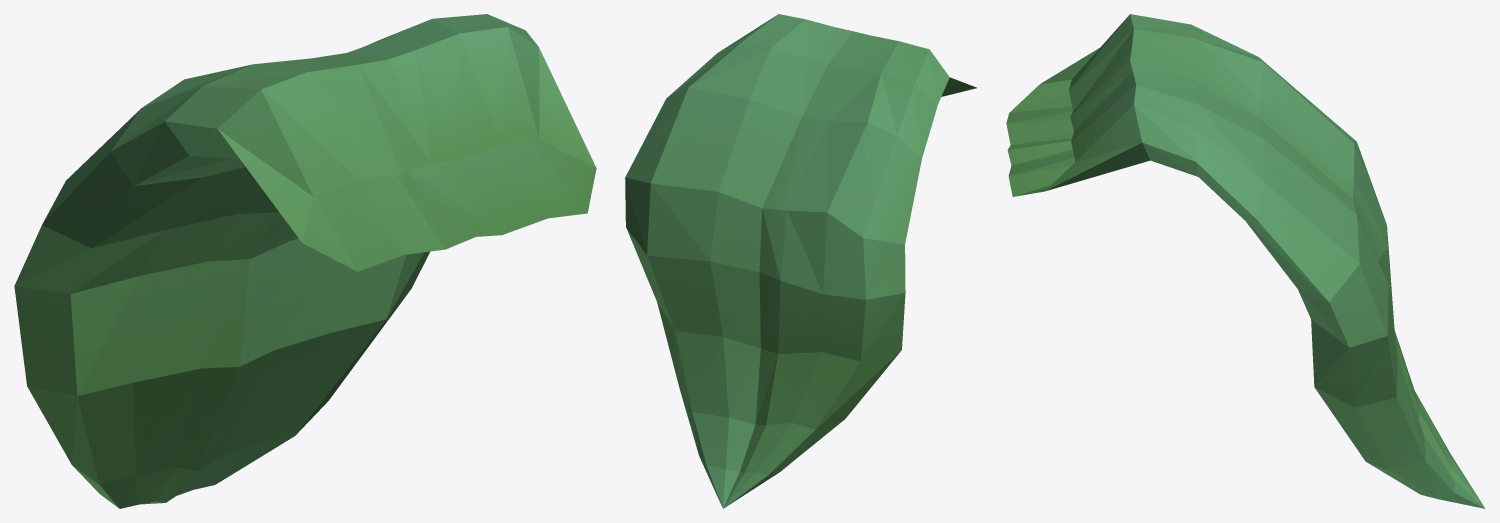
File: leef_06.FBX
3 views of the same model, side by side, from view 1: azimuth 30°, elevation 25°; view 2: azimuth 150°, elevation 25°; view 3: azimuth 270°, elevation 25° (orthographic). The views are drawn at different scales.
Visible parts, largest first — view 1: leef_06; view 2: leef_06; view 3: leef_06.
Boxes of the visible parts, x1,y1,x2,y2 form: leef_06: (14, 14, 596, 508); leef_06: (625, 14, 976, 508); leef_06: (1006, 14, 1485, 508).
Bounding box in the file's own units: 2.74 × 3.41 × 3.22.
